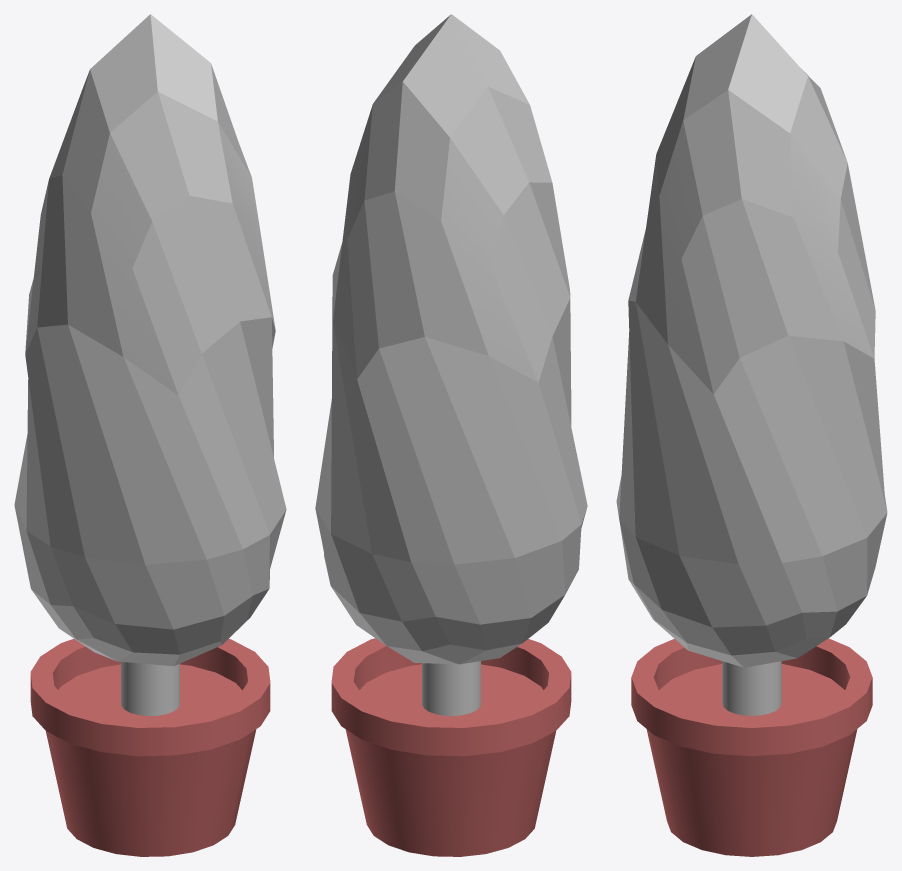
The model's file is Baum_2.fbx.
3 renders of one model, left to right at view 1: azimuth 30°, elevation 25°; view 2: azimuth 150°, elevation 25°; view 3: azimuth 270°, elevation 25°, orthographic.
Parts seen in each view (by area): view 1: Blaetter, Topf, Stam; view 2: Blaetter, Topf, Stam; view 3: Blaetter, Topf, Stam.
Part boxes in pixels (x1=…): Blaetter: x1=14, y1=14, x2=286, y2=666; Topf: x1=30, y1=639, x2=270, y2=856; Stam: x1=121, y1=662, x2=179, y2=715; Blaetter: x1=315, y1=14, x2=587, y2=664; Topf: x1=331, y1=638, x2=571, y2=856; Stam: x1=422, y1=661, x2=480, y2=715; Blaetter: x1=616, y1=14, x2=887, y2=667; Topf: x1=631, y1=638, x2=872, y2=856; Stam: x1=722, y1=661, x2=781, y2=715.
Size of the model in its own units: 159 by 523 by 159.
